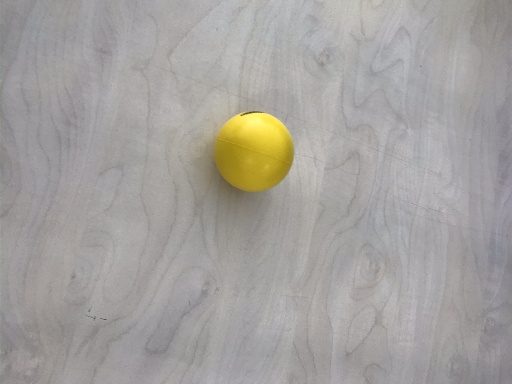Palla: (212, 110, 298, 196)
